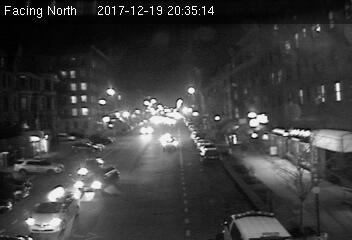car: (25, 188, 79, 233), (77, 163, 121, 193), (201, 148, 222, 163), (160, 134, 178, 151)
police: (219, 209, 291, 240)
